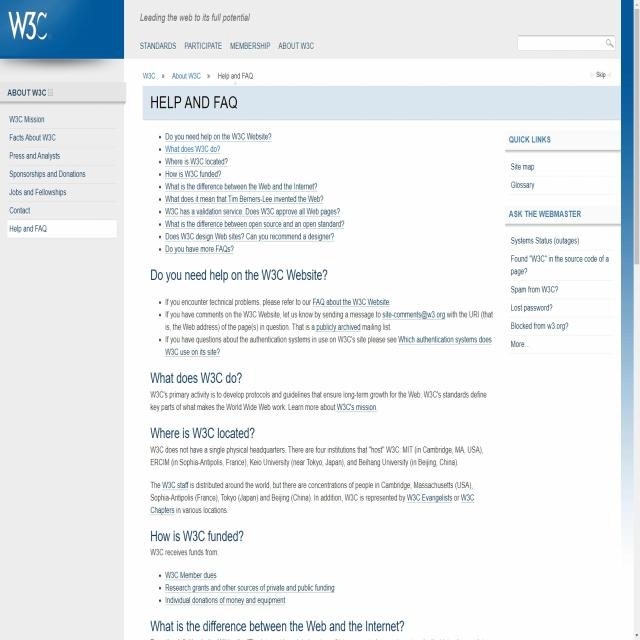content: (7, 109, 118, 238)
menu-bar: (137, 35, 318, 59)
search: (516, 33, 616, 52)
side-panel: (504, 130, 617, 353)
